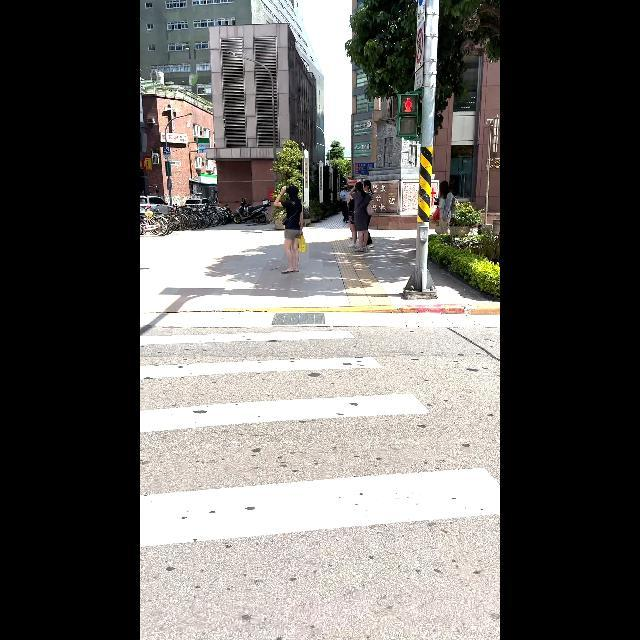sidewalk: (140, 302, 500, 640)
